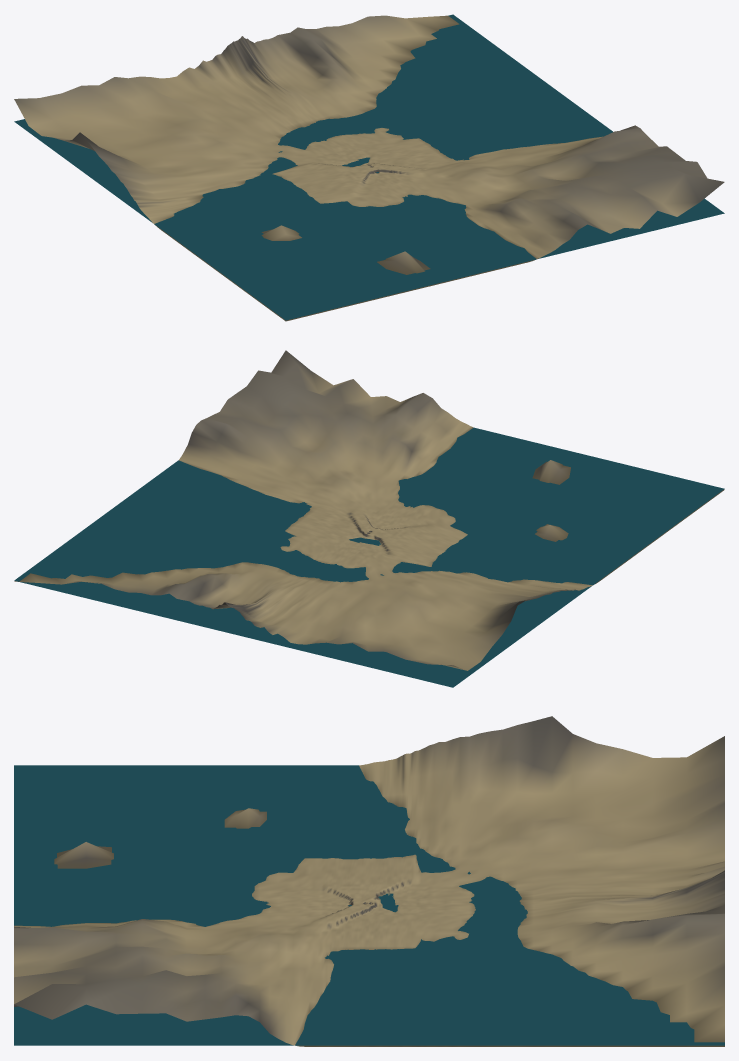
3 renders of one model, top to bottom at view 1: azimuth 30°, elevation 25°; view 2: azimuth 150°, elevation 25°; view 3: azimuth 270°, elevation 25°, orthographic. The views are drawn at different scales.
Visible parts, largest first — view 1: terrain-ch01; view 2: terrain-ch01; view 3: terrain-ch01.
Boxes of the visible parts, left/top/right/bottom form: terrain-ch01: left=14, top=14, right=724, bottom=321; terrain-ch01: left=14, top=350, right=724, bottom=687; terrain-ch01: left=14, top=716, right=724, bottom=1046.
Size of the model in its own units: 2819 by 257 by 3023.
